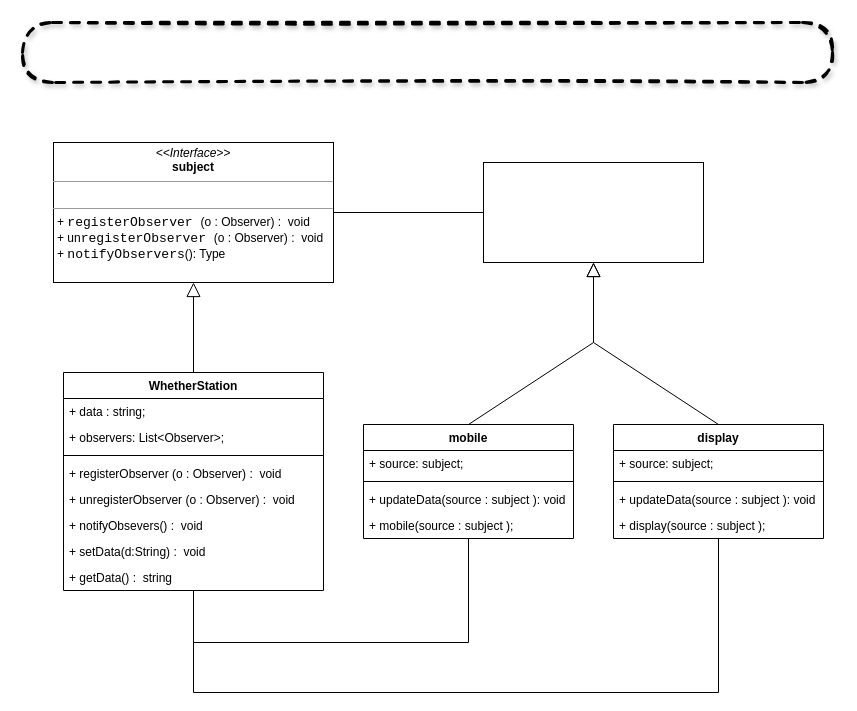
Image size: 857x711. Some labels were removed from this diagram. The shapes that lost their labels are listed below. From the top down, each one's centre as x and y in pixels, then its label:
At point 428,53: "Observer Design pattern - class diagram".
At point 593,212: "<<Interface>> Observer + updateData (source : subject ): void".
